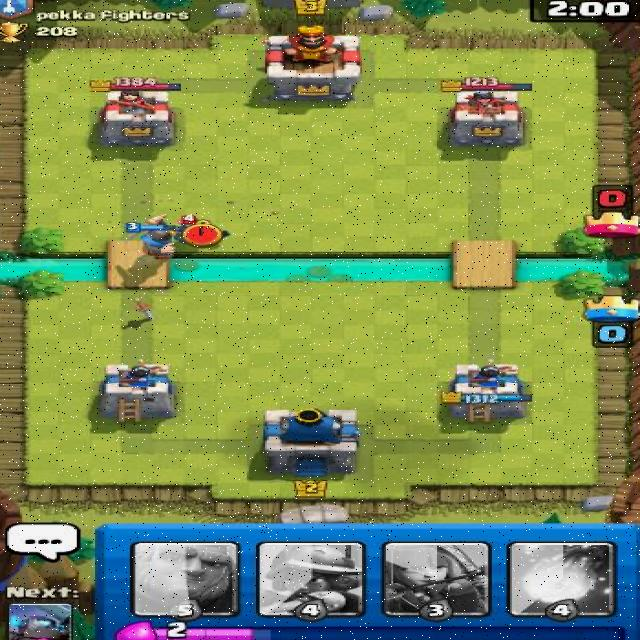Enemy-MiniPEKKA: (150, 212, 236, 250)
Player-Knight: (124, 213, 185, 262)
